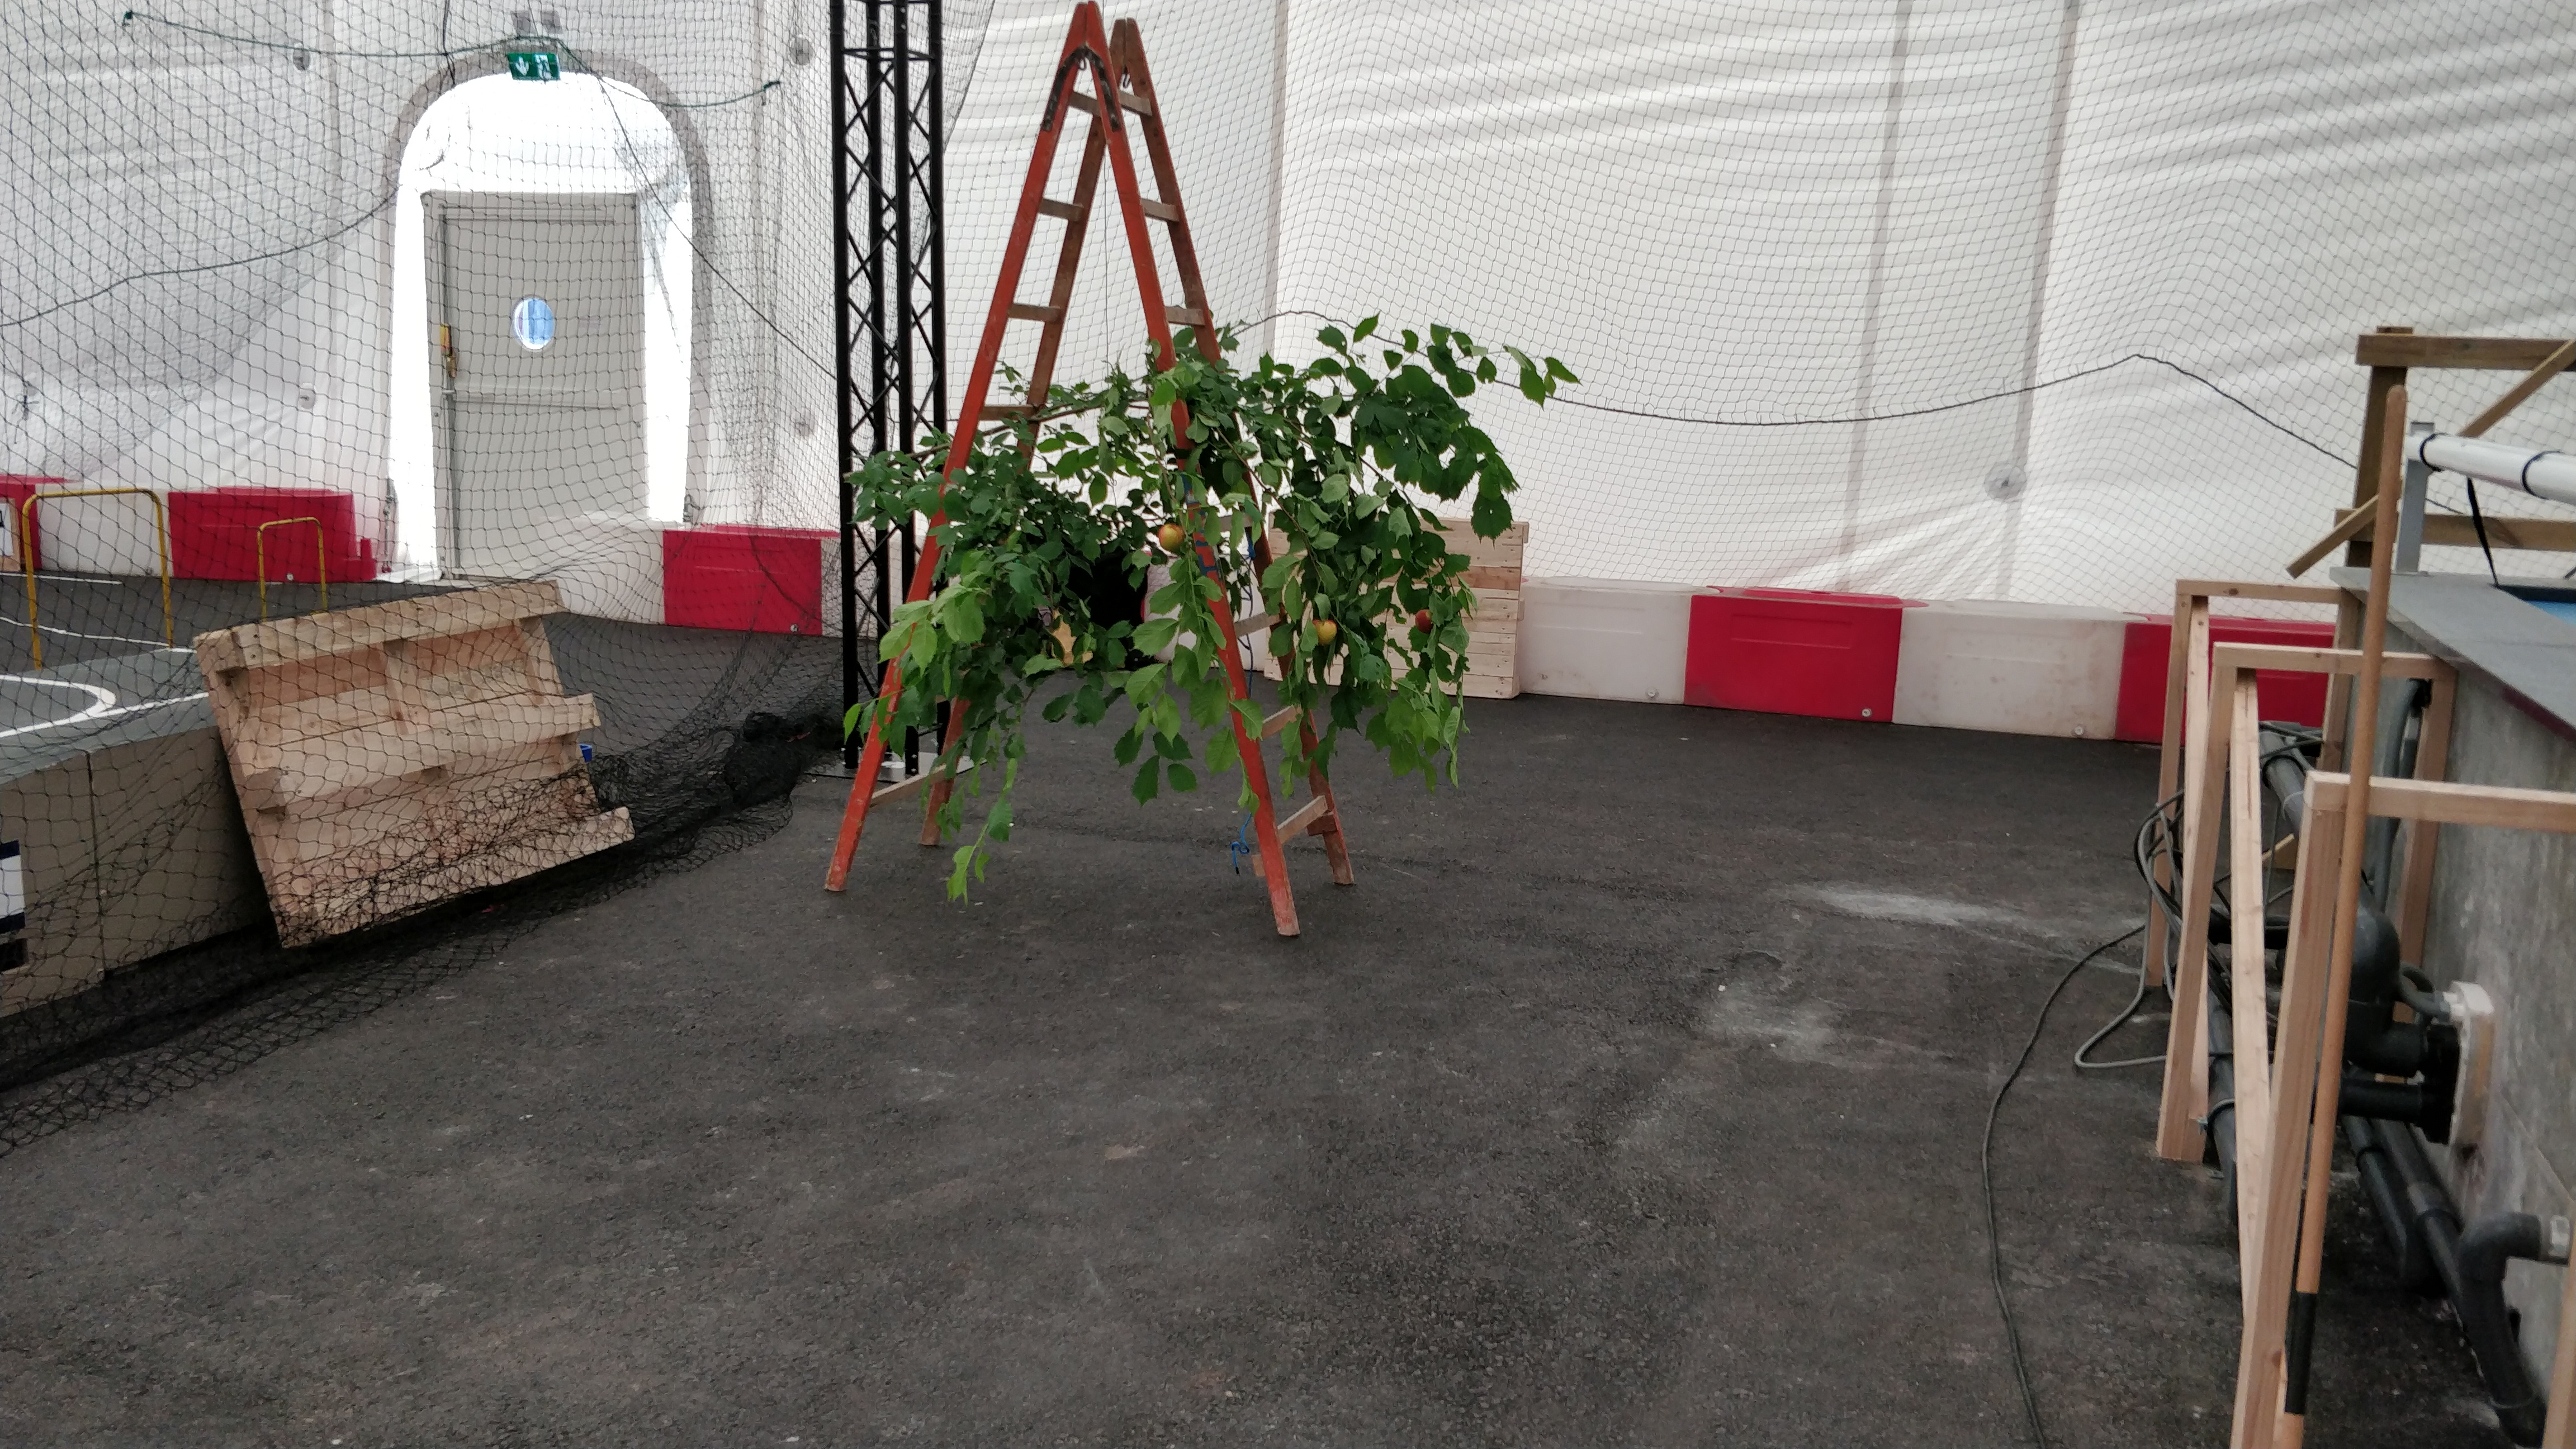apple: (1159, 524, 1185, 550), (1311, 619, 1336, 644), (1415, 609, 1435, 633)
